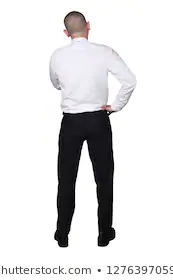F_dress pants: (53, 105, 116, 239)
